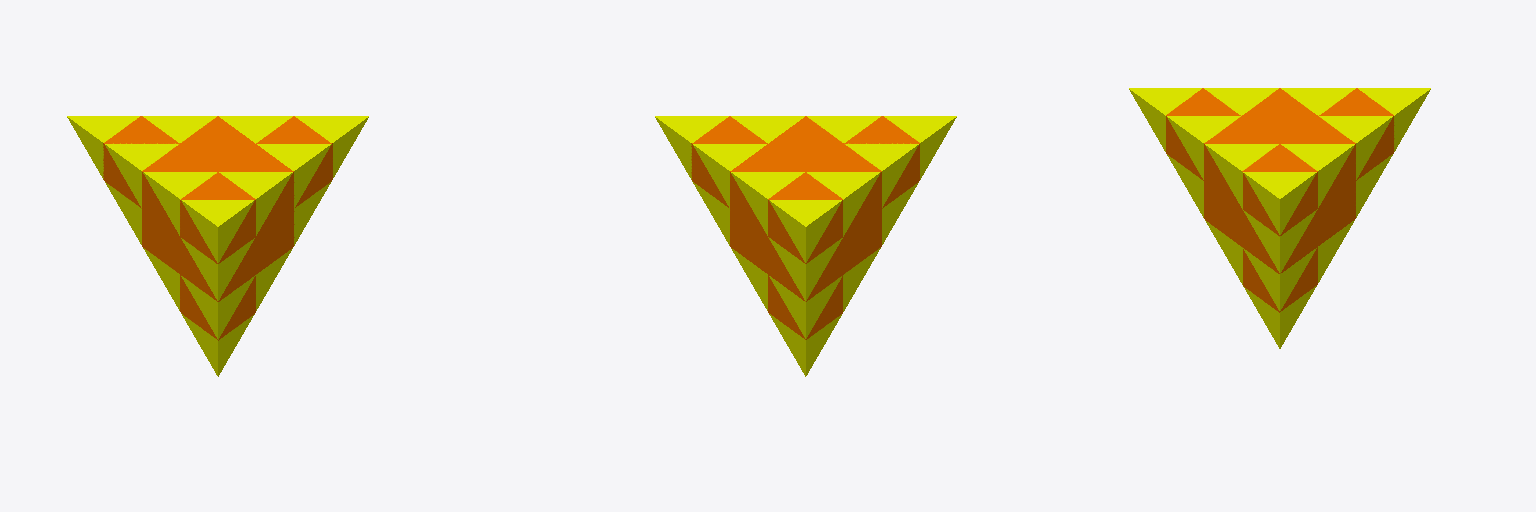
The picture shows the model from 3 angles: view 1: azimuth 30°, elevation 25°; view 2: azimuth 150°, elevation 25°; view 3: azimuth 270°, elevation 25°; orthographic projection.
Parts seen in each view (by area): view 1: Solid; view 2: Solid; view 3: Solid.
Boxes of the visible parts, box(x1,y1,x2,y2) form: Solid: box(67, 116, 368, 376); Solid: box(655, 116, 956, 376); Solid: box(1129, 88, 1430, 348).
Bounding box in the file's own units: 1.41 × 1.33 × 1.63.
Materials: 1 (1 with a texture image).